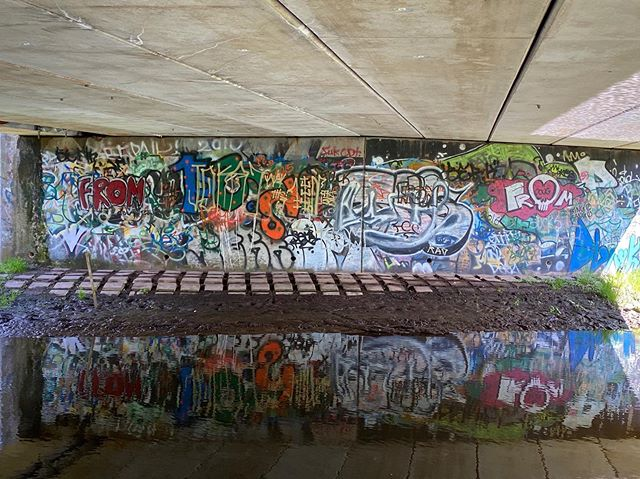graffiti: (36, 133, 640, 278)
